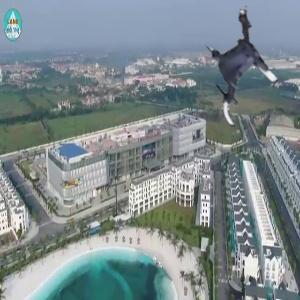drone: (190, 21, 296, 127)
